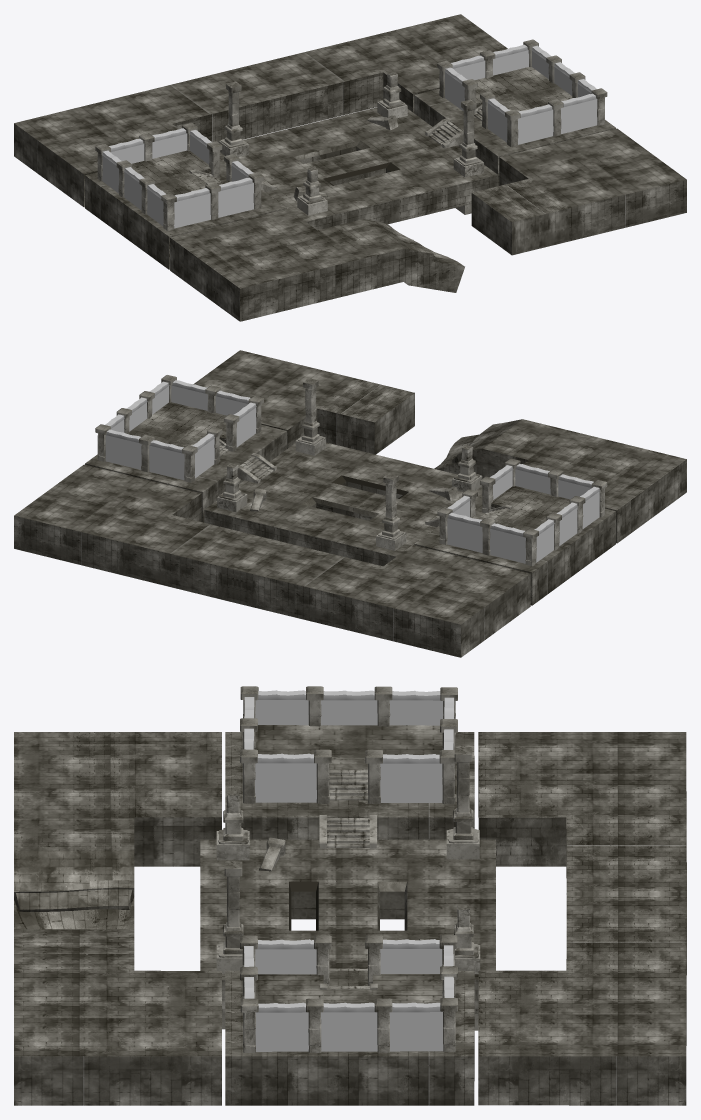
File: Level9.fbx
3 views of the same model, one above another, from view 1: azimuth 30°, elevation 25°; view 2: azimuth 150°, elevation 25°; view 3: azimuth 270°, elevation 25° (orthographic). The views are drawn at different scales.
Visible parts, largest first — view 1: Outer_bases (×2), Outer_bases1 (×2), Bridge_ish, Base1 (×2), Base2 (×2), Wall4 (×2), Wall (×2), Full_Pillar (×2), Wall9 (×2), Wall6 (×2), Wall5 (×2), Broken_Pillar3 (×2) (+5 smaller); view 2: Outer_bases1 (×2), Outer_bases (×2), Bridge_ish, Base1 (×2), Base2 (×2), Wall9 (×2), Wall6 (×2), Full_Pillar (×2), Wall4 (×2), Wall (×2), Wall2 (×2), Broken_Pillar3 (×2) (+4 smaller); view 3: Outer_bases1 (×2), Outer_bases (×2), Bridge_ish, Base1 (×2), Base2 (×2), Wall5 (×2), Wall2 (×2), Wall10 (×2), Wall7 (×2), Wall8 (×2), Full_Pillar (×2), Stair2 (×2) (+10 smaller).
Boxes of the visible parts, x1,y1,x2,y2 form: Outer_bases (×2): (170,128,686,321); Outer_bases1 (×2): (14,14,507,207); Bridge_ish: (219,107,497,230); Base1 (×2): (85,89,615,269); Base2 (×2): (132,67,572,195); Wall4 (×2): (174,93,597,228); Wall (×2): (218,104,553,217); Full_Pillar (×2): (220,81,481,166); Wall9 (×2): (109,44,528,163); Wall6 (×2): (152,55,485,158); Wall5 (×2): (189,67,467,164); Broken_Pillar3 (×2): (299,71,405,204); Outer_bases1 (×2): (14,464,530,657); Outer_bases (×2): (193,350,686,543); Bridge_ish: (204,442,482,566); Base1 (×2): (85,424,615,605); Base2 (×2): (128,402,569,530); Wall9 (×2): (105,429,525,563); Wall6 (×2): (149,440,482,552); Full_Pillar (×2): (297,378,403,539); Wall4 (×2): (171,380,593,499); Wall (×2): (215,390,550,494); Wall2 (×2): (233,402,512,499); Broken_Pillar3 (×2): (219,445,479,501); Outer_bases1 (×2): (478,732,686,1105); Outer_bases (×2): (14,732,221,1105); Bridge_ish: (200,839,495,1013); Base1 (×2): (225,732,474,1105); Base2 (×2): (255,725,442,1003); Wall5 (×2): (380,754,442,973); Wall2 (×2): (255,753,316,974); Wall10 (×2): (321,690,377,1051); Wall7 (×2): (389,690,443,1051); Wall8 (×2): (255,690,308,1051); Full_Pillar (×2): (218,747,478,957); Stair2 (×2): (327,769,369,847).
Size of the model in its own units: 82.61 by 20.34 by 72.41.
